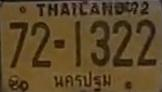1: (74, 20, 80, 66)
2: (111, 20, 132, 66), (136, 18, 156, 66), (30, 21, 49, 67)
3: (90, 20, 109, 65)
7: (9, 21, 27, 67)
NPT: (51, 70, 112, 90)
